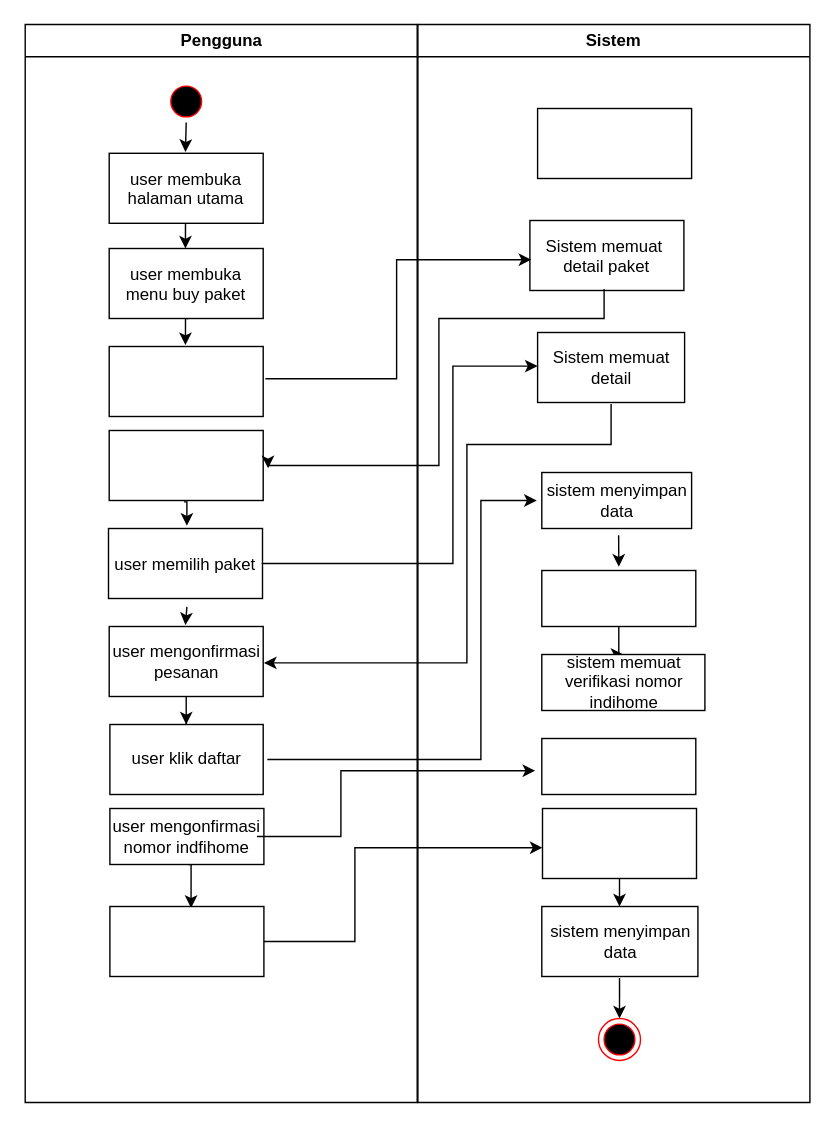
The diagram is 834 pixels wide and 1127 high, and some of its shapes have lost their labels. Each missing label, with the centre of its shape:
sistem memuat halaman otp verifikasi: the point at 618,765
sistem memuat pembayaran: the point at 618,597
sistem memverifikasi data: the point at 618,842
Sistem menampilkan Halaman Utama: the point at 614,142
user memilih menu Indihome Study: the point at 185,380
user mengofirmasi otp: the point at 186,940
user mengonfirmas detail paket: the point at 185,464
